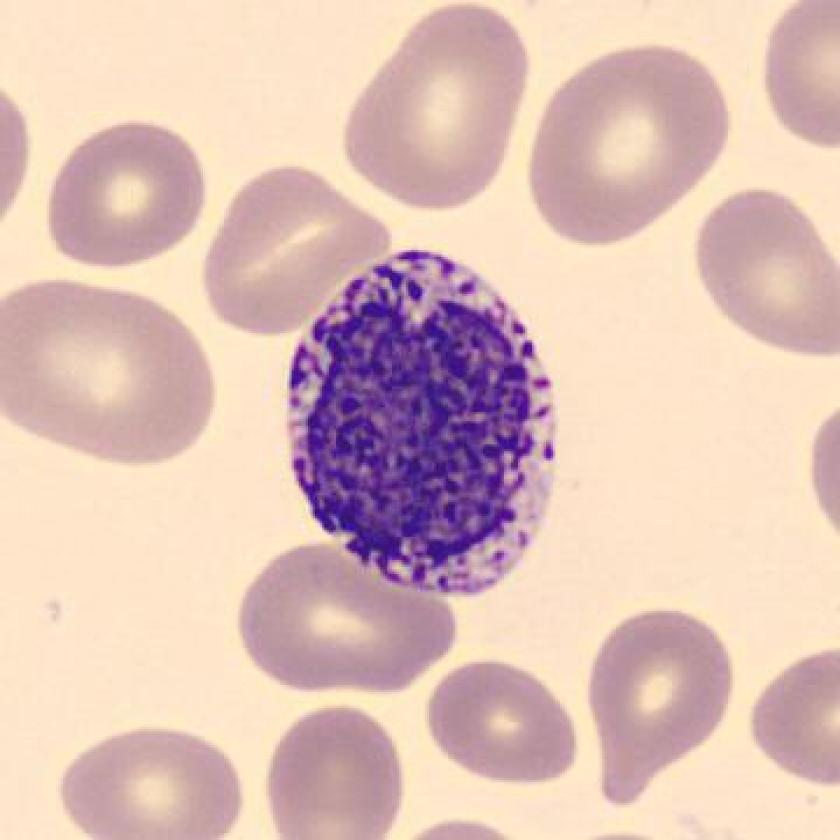basophil: (277, 242, 564, 612)
